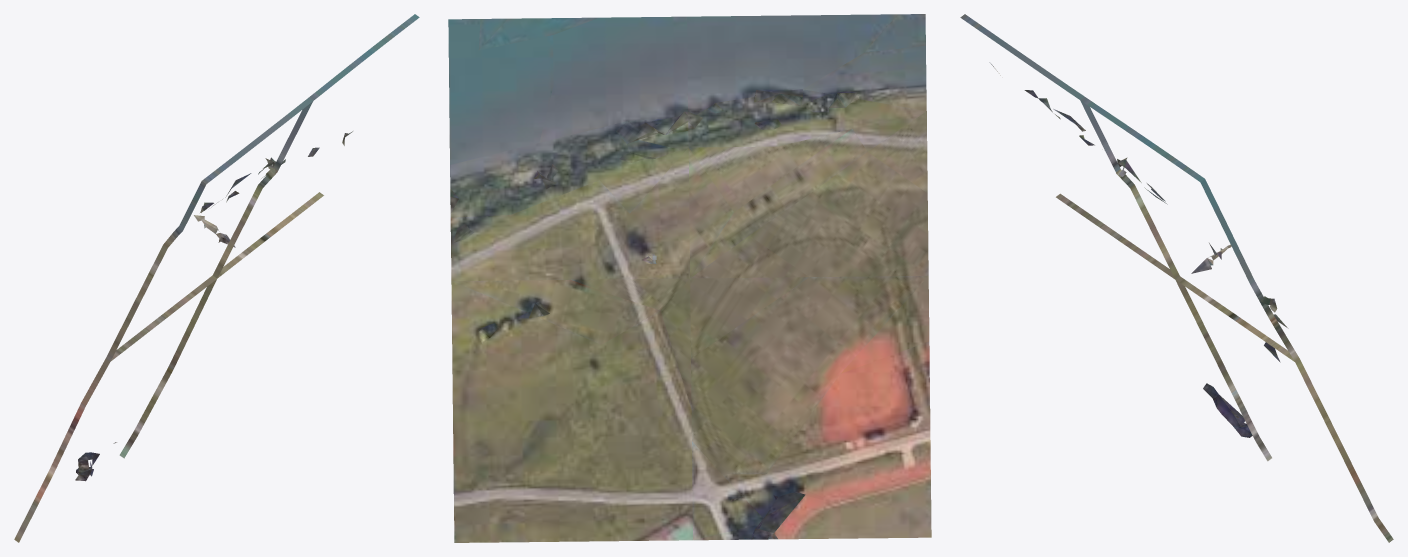
3 views of the same model, side by side, from view 1: azimuth 30°, elevation 25°; view 2: azimuth 150°, elevation 25°; view 3: azimuth 270°, elevation 25° (orthographic). The views are drawn at different scales.
Size of the model in its own units: 307 by 276 by 262.
1 material, 1 textured.
